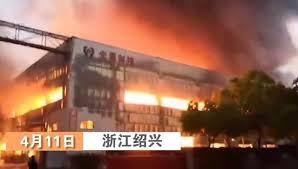fire: (122, 87, 210, 110), (9, 88, 65, 115)
